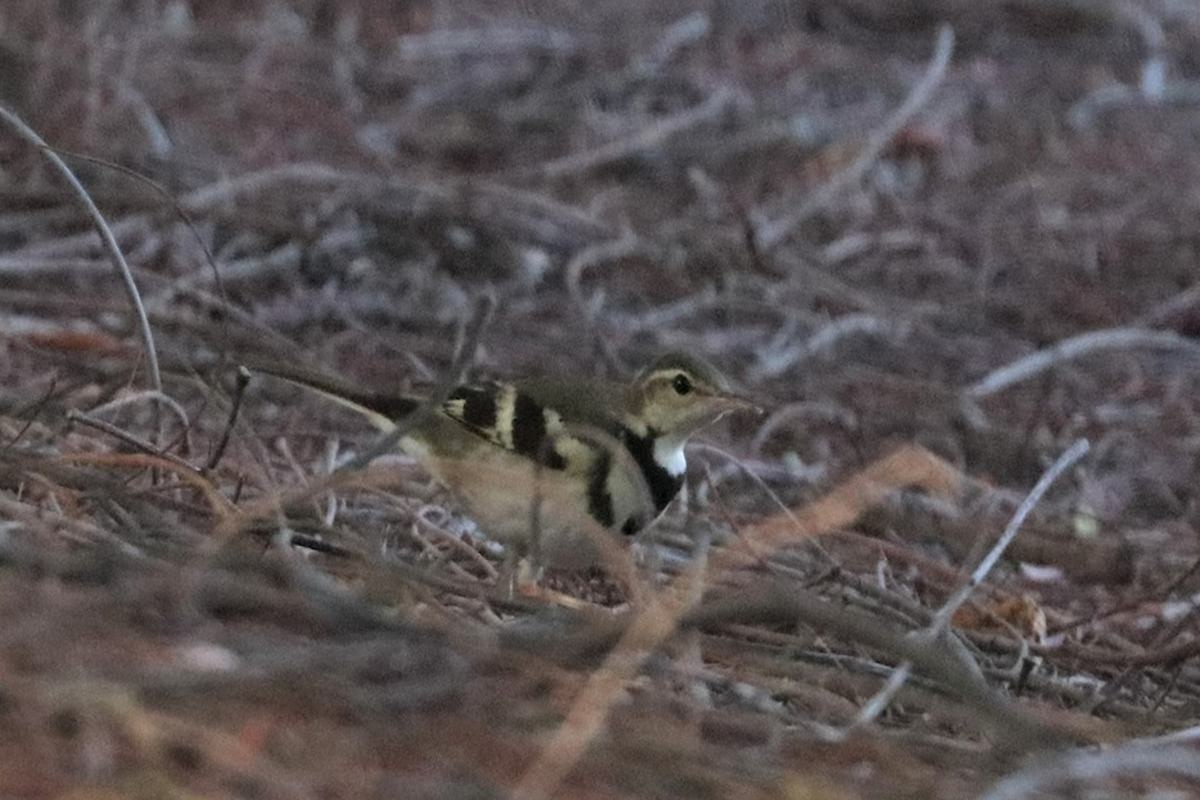wagtail: (328, 322, 795, 573)
